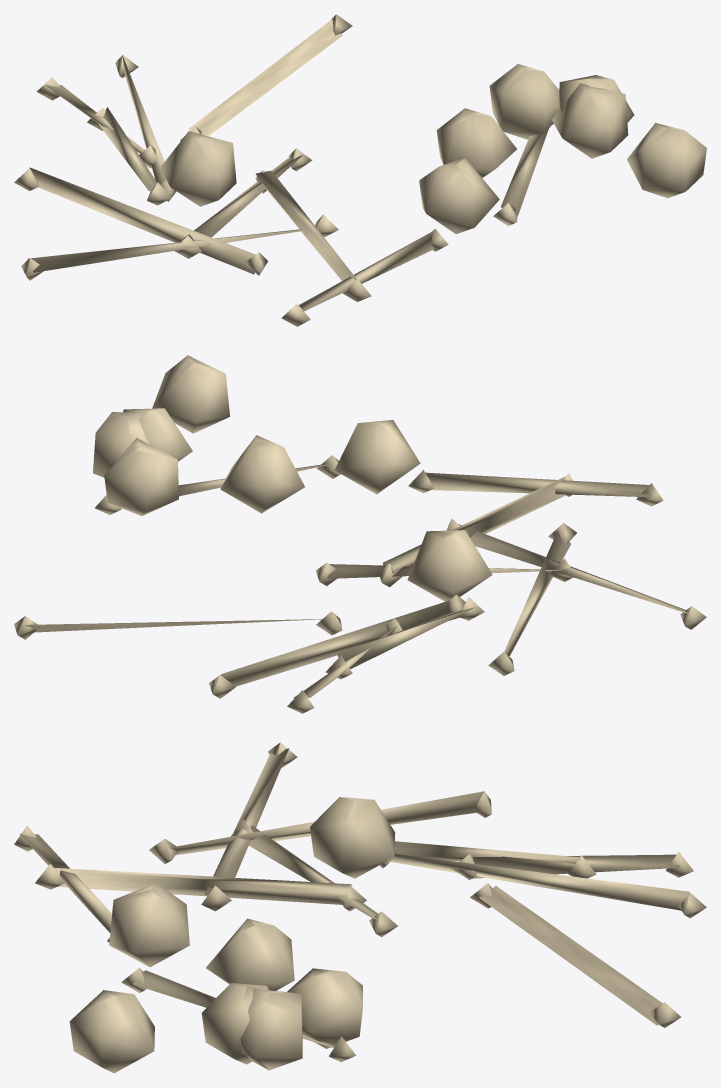
The model's file is Bones_Scatter_3_LOD1.gltf.
3 views of the same model, one above another, from view 1: azimuth 30°, elevation 25°; view 2: azimuth 150°, elevation 25°; view 3: azimuth 270°, elevation 25° (orthographic). The views are drawn at different scales.
Visible parts, largest first — view 1: Bones_Scatter_3_LOD1; view 2: Bones_Scatter_3_LOD1; view 3: Bones_Scatter_3_LOD1.
Boxes of the visible parts, bbox=[...] form: Bones_Scatter_3_LOD1: bbox=[14, 14, 706, 326]; Bones_Scatter_3_LOD1: bbox=[14, 355, 706, 713]; Bones_Scatter_3_LOD1: bbox=[14, 742, 706, 1073].
Bounding box in the file's own units: 1.89 × 0.21 × 1.69.
1 material, 1 textured.
